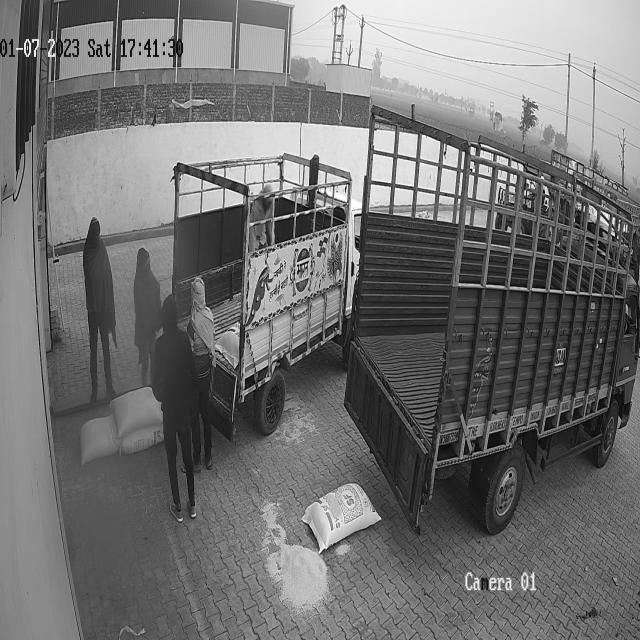sack: (302, 483, 381, 556), (110, 386, 163, 436), (78, 414, 118, 464), (120, 427, 164, 454)
